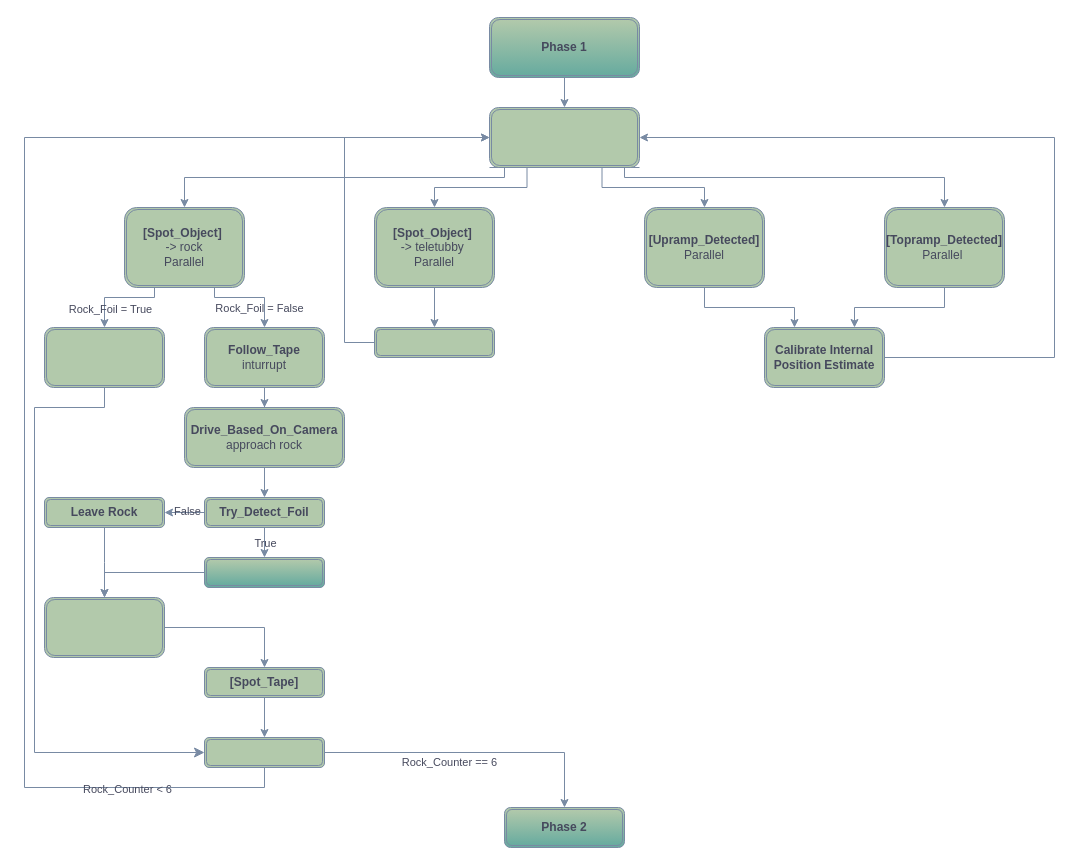
This 1080x865 diagram has some shape labels left out. The shapes that lost their labels are listed below. From the top down, each one's centre as x and y in pixels, then its label:
the point at 564,137: Follow Tape
the point at 104,357: Flash_Light if teletubby spotted concurrently
the point at 434,342: Flash_Light
the point at 264,572: Foil = True
the point at 104,627: Drive_Blind find tape
the point at 264,752: Rock_Counter++
